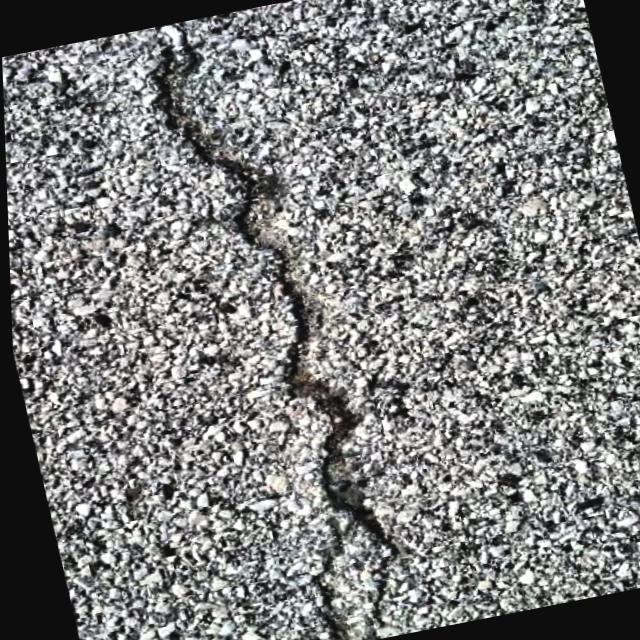cracks: (121, 0, 430, 640)
